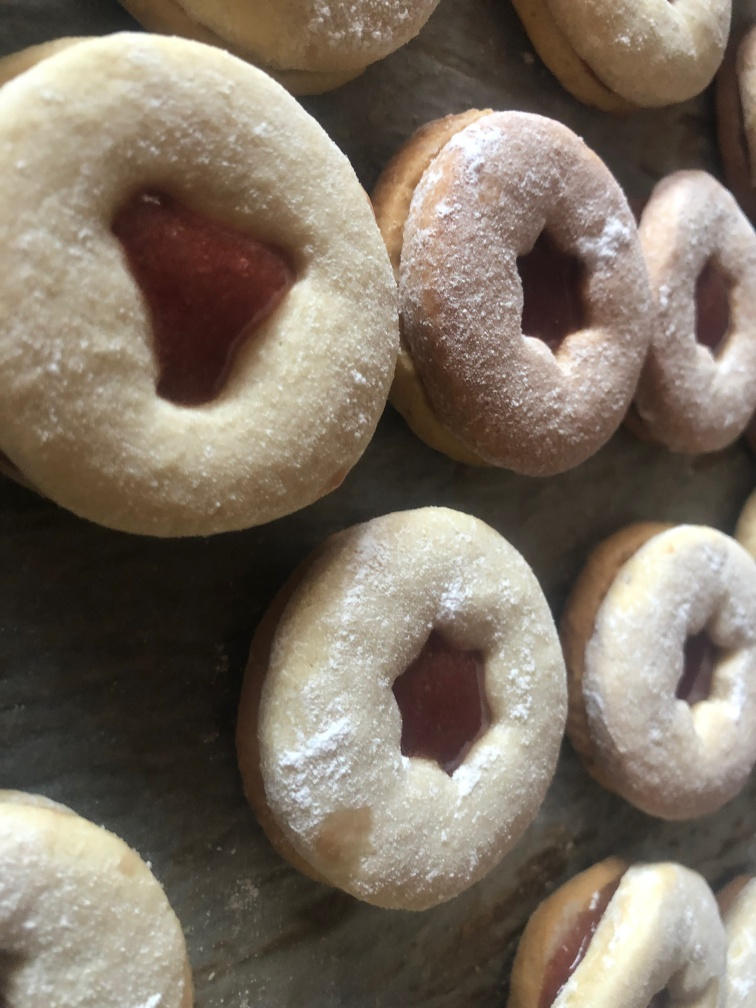christmas shortbread with jam: (1, 29, 397, 533), (251, 505, 568, 912), (366, 107, 647, 480), (574, 514, 750, 820), (639, 166, 755, 460), (515, 855, 724, 1008)
